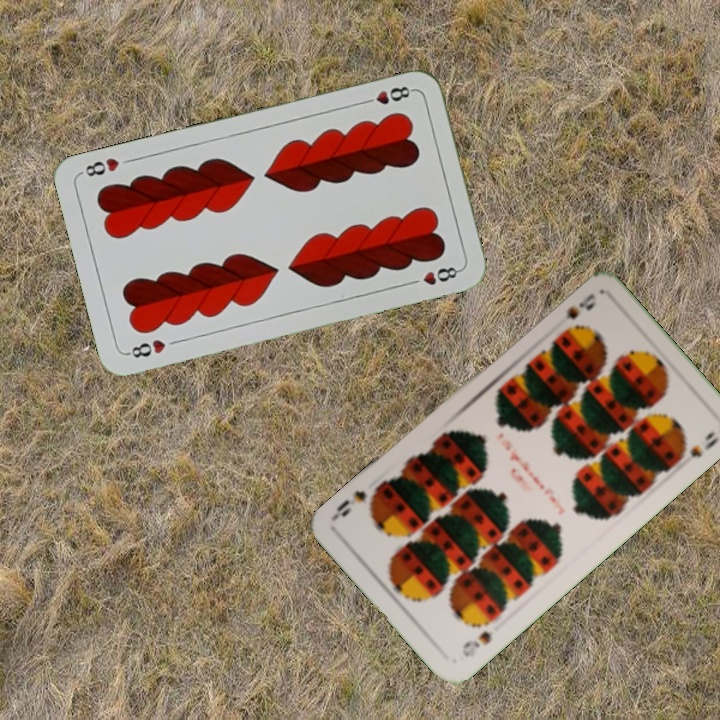H8: (358, 82, 417, 107), (123, 335, 169, 361)
S9: (561, 289, 599, 323), (457, 627, 494, 660)
